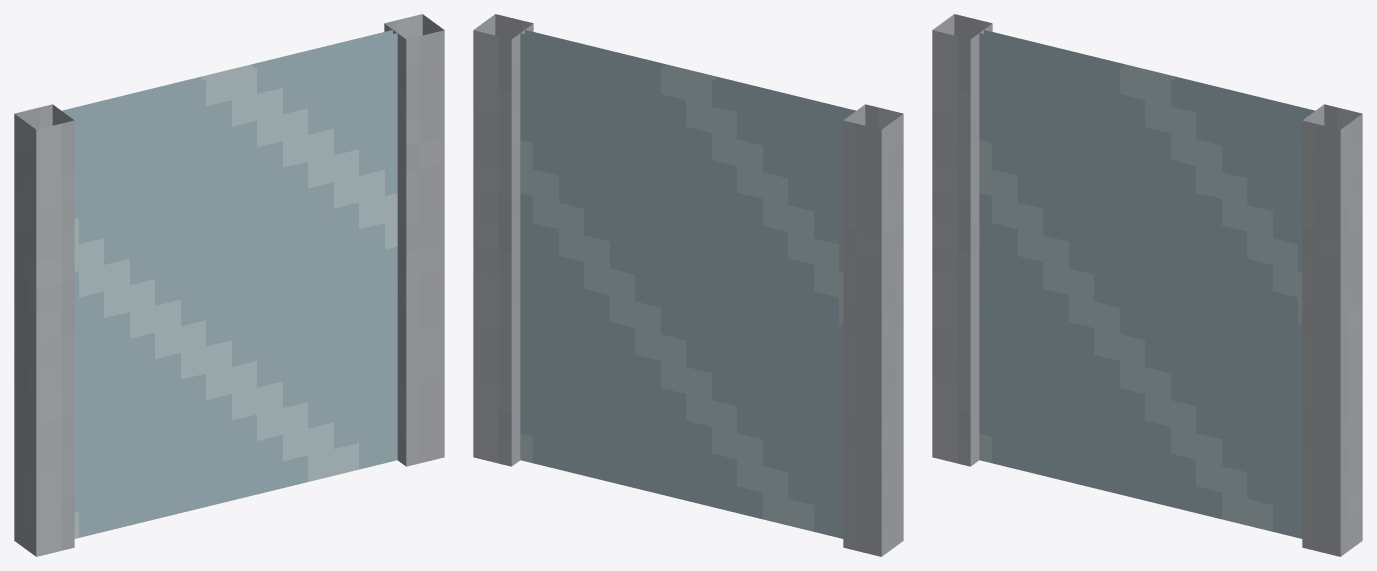
File: auto_door_tele_slider_clear_c1_middle_left_open.obj
3 views of the same model, side by side, from view 1: azimuth 30°, elevation 25°; view 2: azimuth 150°, elevation 25°; view 3: azimuth 330°, elevation 25° (orthographic).
Parts seen in each view (by area): view 1: auto_door_tele_slider_clear_c1_middle_left_open; view 2: auto_door_tele_slider_clear_c1_middle_left_open; view 3: auto_door_tele_slider_clear_c1_middle_left_open.
Part boxes in pixels (x1,y1,x2,y2): auto_door_tele_slider_clear_c1_middle_left_open: (14, 14, 444, 556); auto_door_tele_slider_clear_c1_middle_left_open: (473, 14, 903, 556); auto_door_tele_slider_clear_c1_middle_left_open: (932, 14, 1362, 556).
Size of the model in its own units: 1 by 1 by 0.0938.
